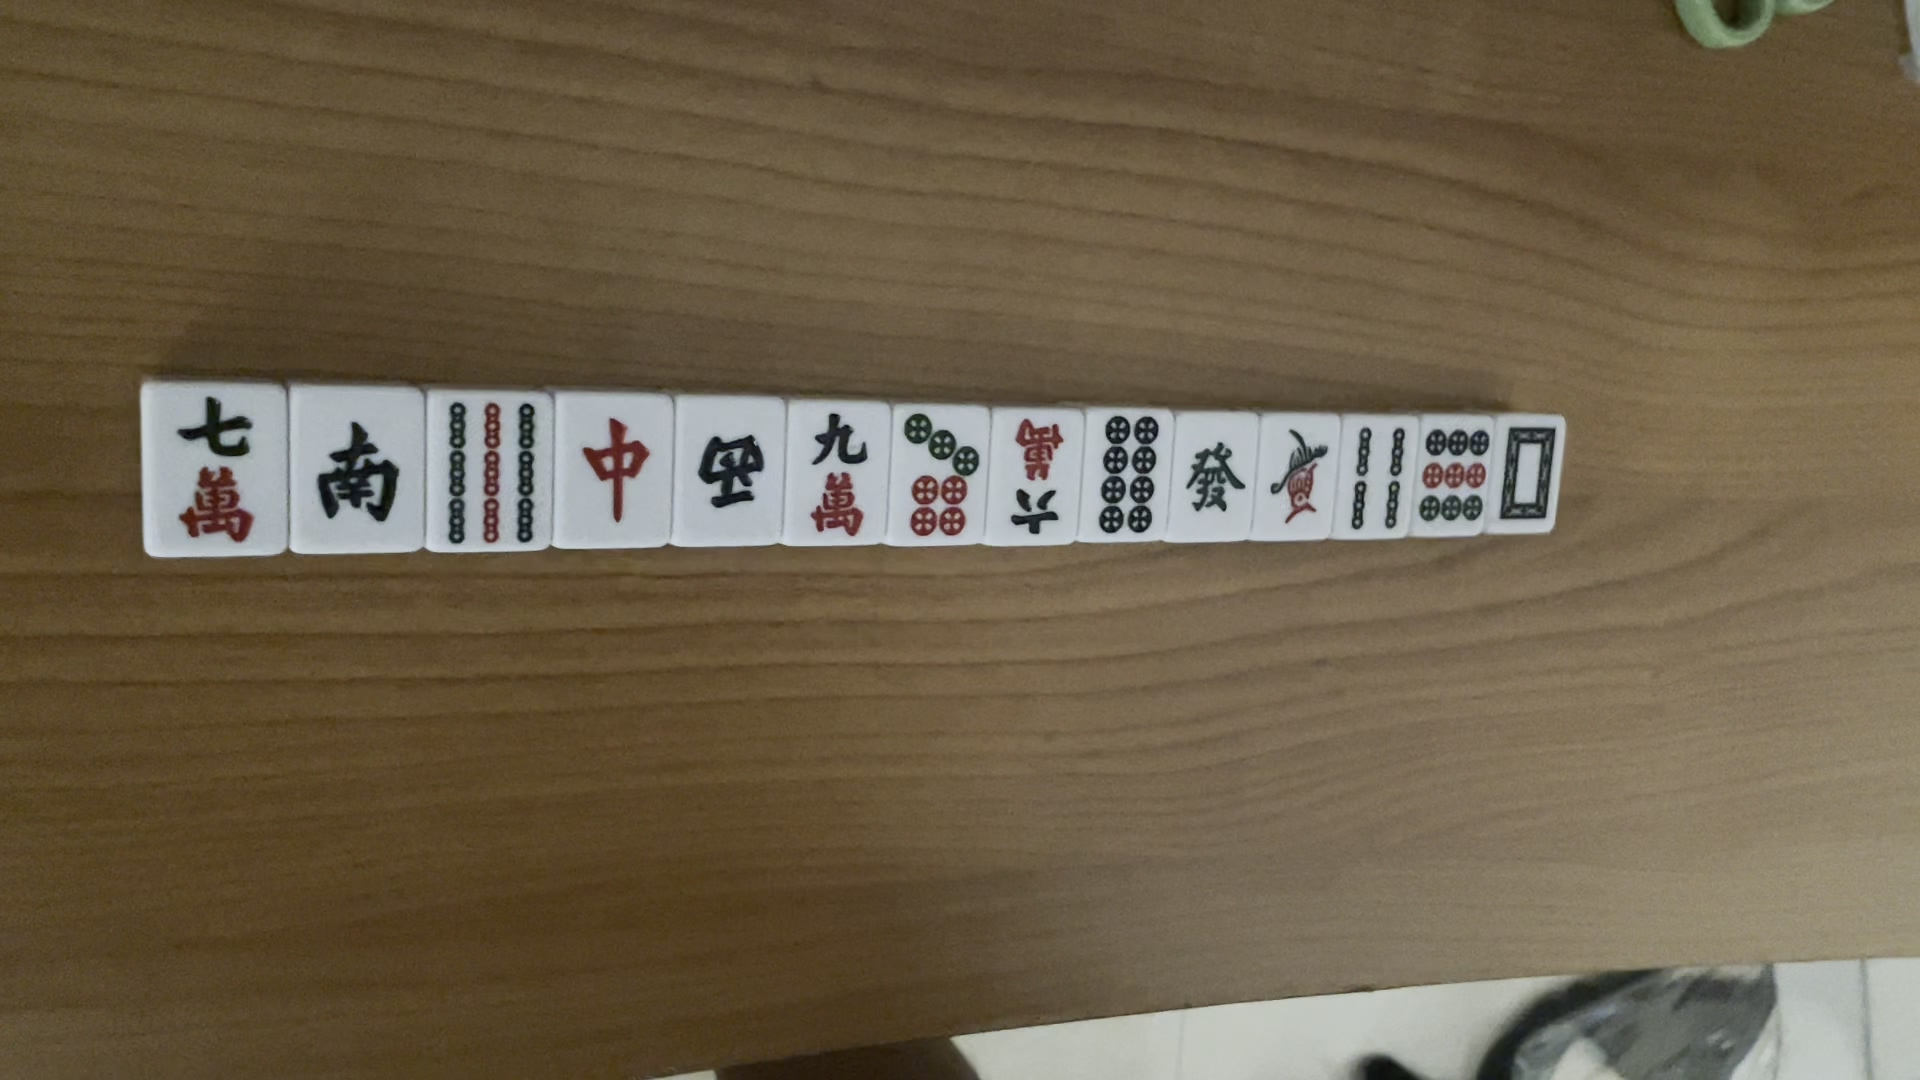b-1: (1258, 418, 1331, 527)
b-4: (1345, 418, 1410, 535)
b-9: (436, 396, 541, 546)
c-6: (1000, 411, 1071, 541)
c-7: (165, 385, 268, 556)
c-9: (799, 407, 876, 541)
d-7: (899, 407, 981, 541)
d-8: (1097, 411, 1160, 541)
d-9: (1420, 429, 1487, 522)
honors-green: (1176, 431, 1244, 521)
honors-red: (574, 411, 647, 522)
honors-south: (302, 405, 404, 541)
honors-west: (686, 422, 778, 517)
honors-white: (1501, 421, 1557, 527)
